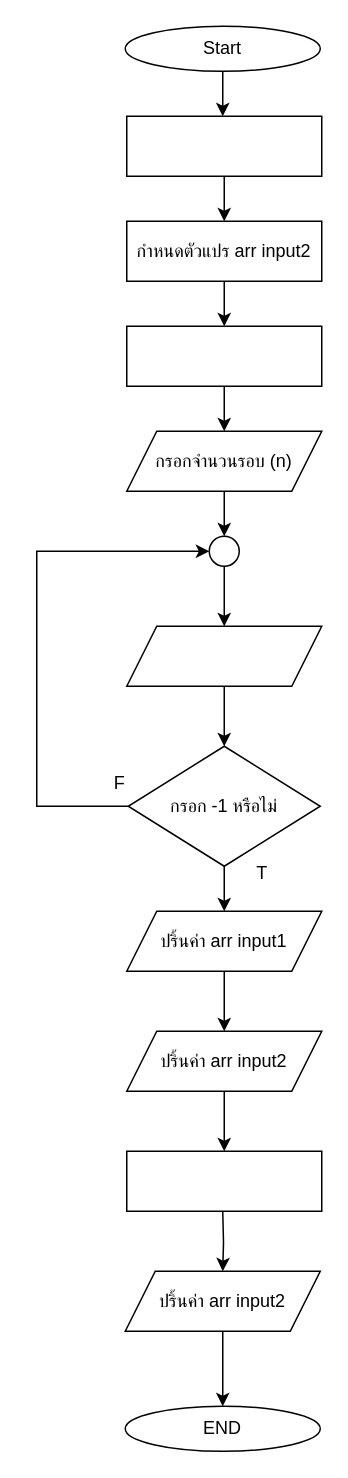
This 348x1478 diagram has some shape labels left out. Here are the shapes that lost their labels. From the top down, the centre of each, then its label:
pixel 223 145: กำหนดตัวแปร arr input1
pixel 223 355: กำหนดตัวแปร n
pixel 223 655: กรอกตัวแปร input
pixel 223 1180: ก็อป arr input1 ไปยัง arr input2
